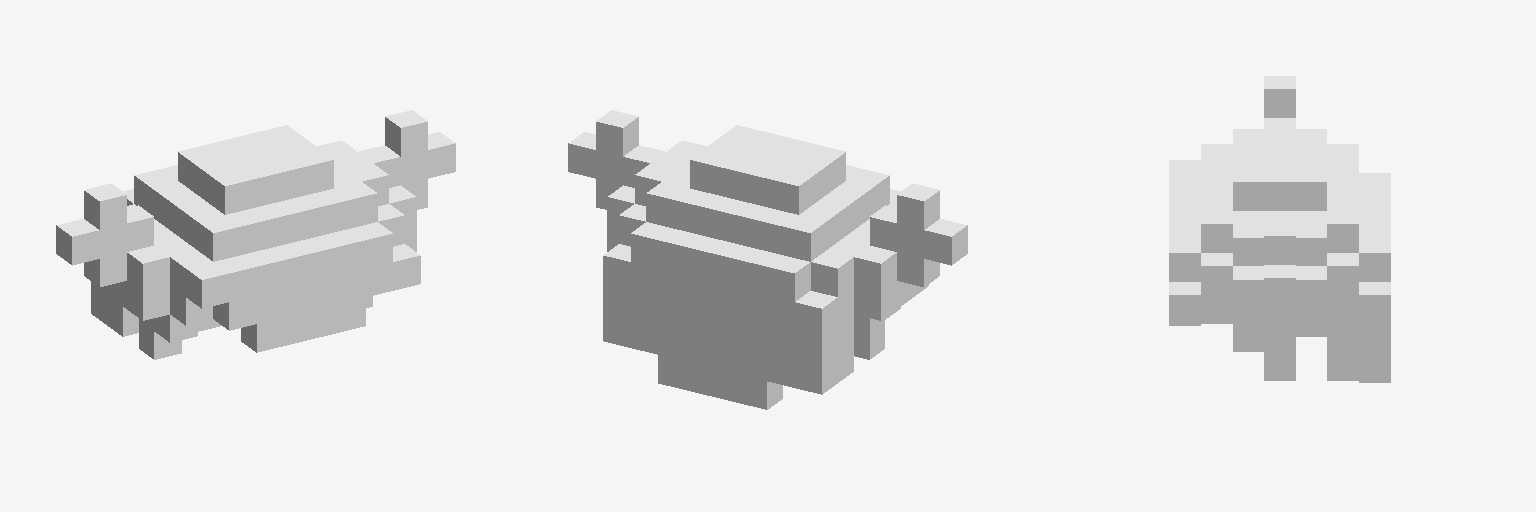
The model's file is ama02-10.obj.
3 renders of one model, left to right at view 1: azimuth 30°, elevation 25°; view 2: azimuth 150°, elevation 25°; view 3: azimuth 270°, elevation 25°, orthographic.
Parts seen in each view (by area): view 1: ama02-10; view 2: ama02-10; view 3: ama02-10.
Part boxes in pixels (x1,y1,x2,y2): ama02-10: (56, 110, 455, 359); ama02-10: (568, 110, 967, 409); ama02-10: (1169, 76, 1390, 382).
Bounding box in the file's own units: 14 × 7 × 7.